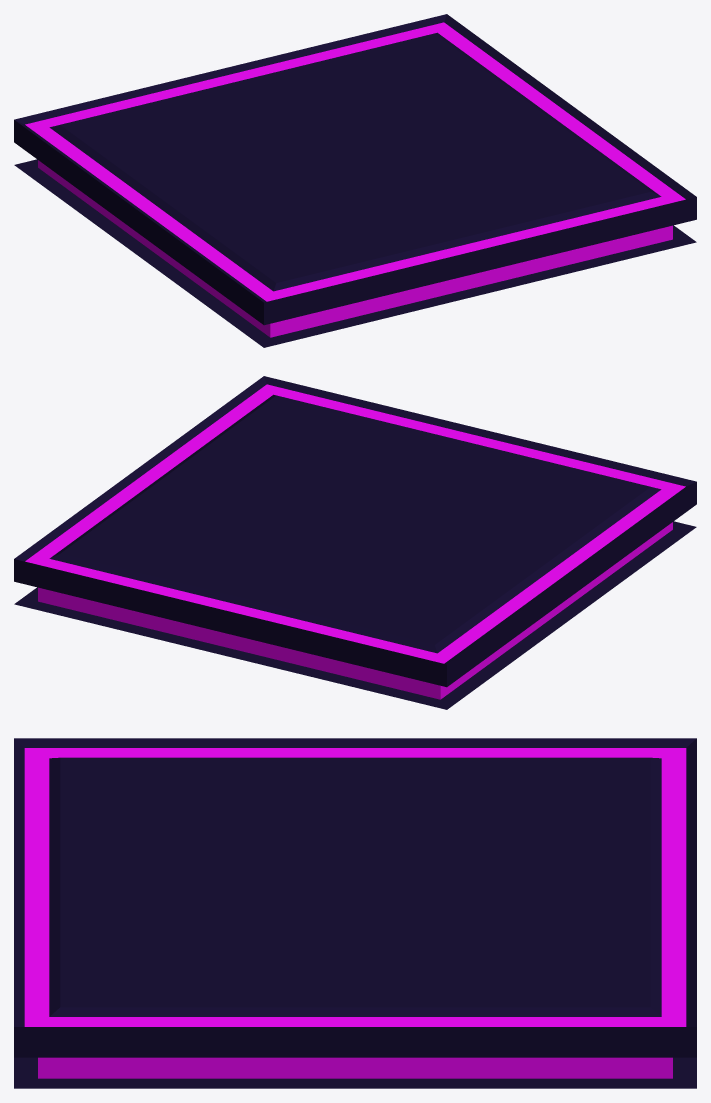
File: Tile_Red.FBX
3 views of the same model, one above another, from view 1: azimuth 30°, elevation 25°; view 2: azimuth 150°, elevation 25°; view 3: azimuth 270°, elevation 25° (orthographic). The views are drawn at different scales.
Parts seen in each view (by area): view 1: Tile_RED; view 2: Tile_RED; view 3: Tile_RED.
Boxes of the visible parts, left/top/right/bottom form: Tile_RED: left=14, top=14, right=696, bottom=347; Tile_RED: left=14, top=376, right=696, bottom=709; Tile_RED: left=14, top=738, right=696, bottom=1088.
Bounding box in the file's own units: 39.37 × 3.94 × 39.37.
